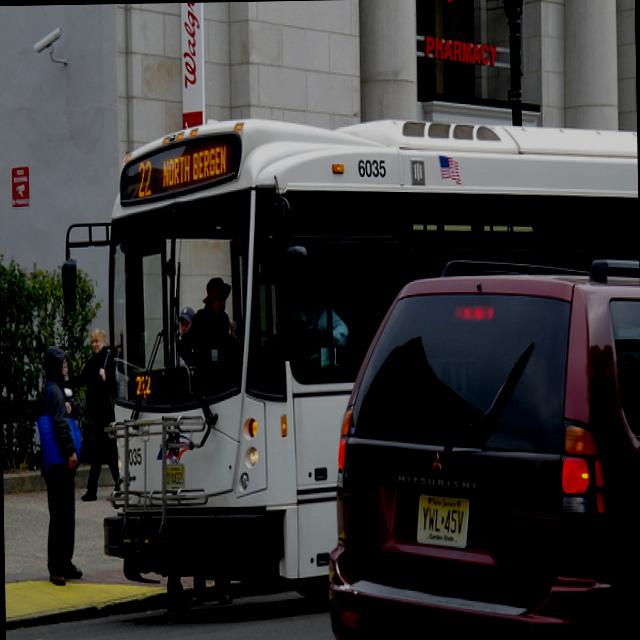Vehicle: (59, 112, 640, 595), (313, 249, 640, 640)
